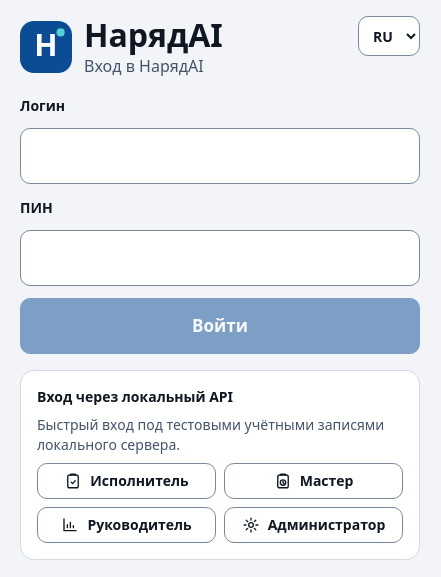
Test case: LoginPage form › disables submit until login and 4-digit pin
This screenshot has width=441, height=577.
Check: the button "Войти" is disabled, box x1=20 y1=298 x2=420 y2=354
Type "worker01" into the field labelled "Логин" at (220, 156), box x1=20 y1=128 x2=420 y2=184
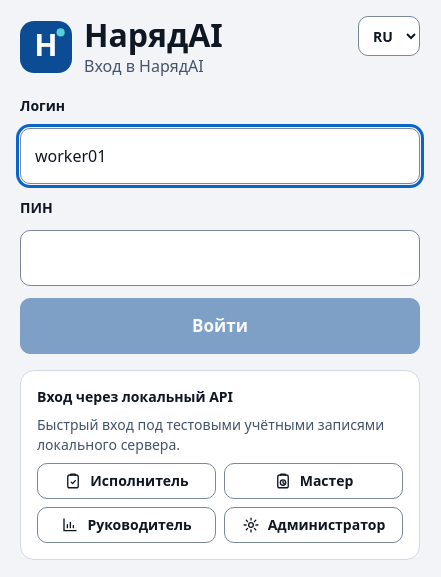
Check: the button "Войти" is disabled, box x1=20 y1=298 x2=420 y2=354
Type "1001" into the password field labelled "ПИН" at (220, 258), box x1=20 y1=230 x2=420 y2=286
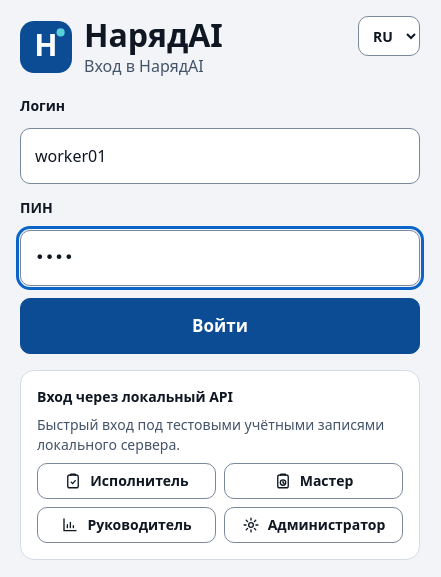
Check: the button "Войти" is enabled, box x1=20 y1=298 x2=420 y2=354
